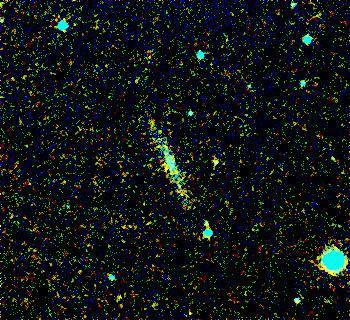star: (197, 146, 227, 176)
